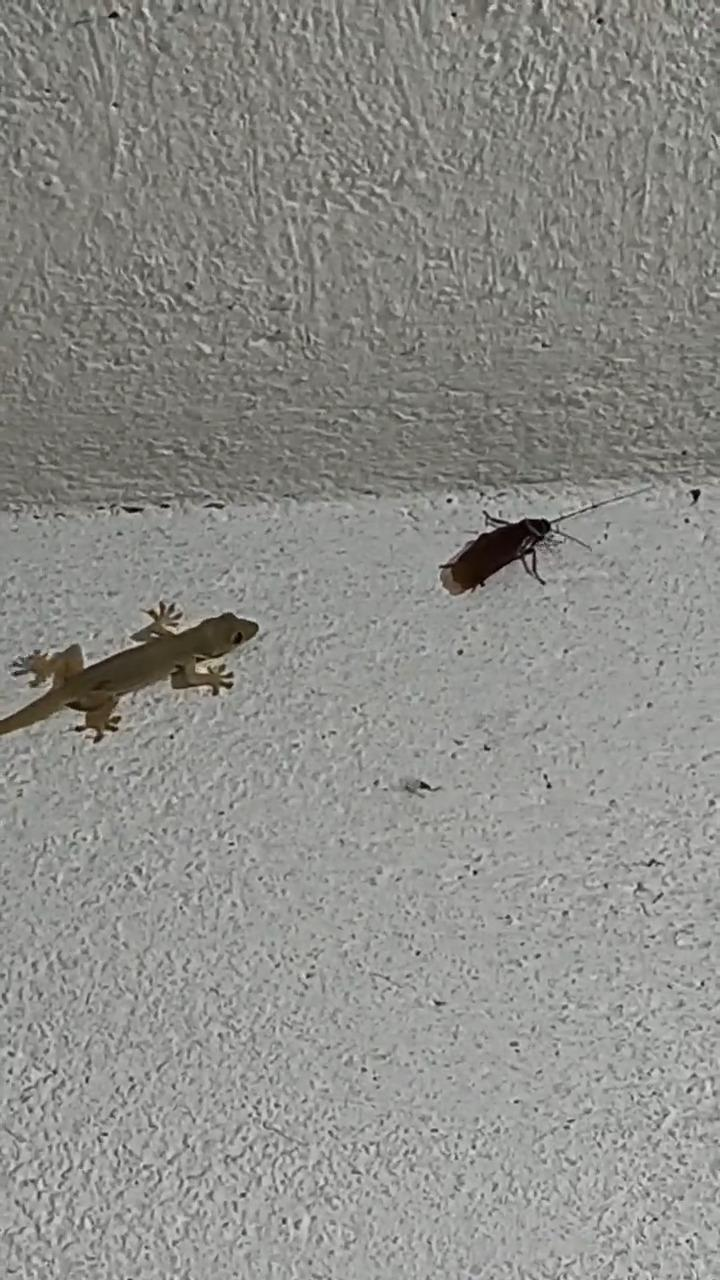cockroach: (408, 486, 653, 606)
lizard: (0, 575, 267, 758)
